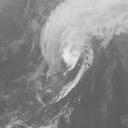cyclone: (39, 24, 94, 76)
